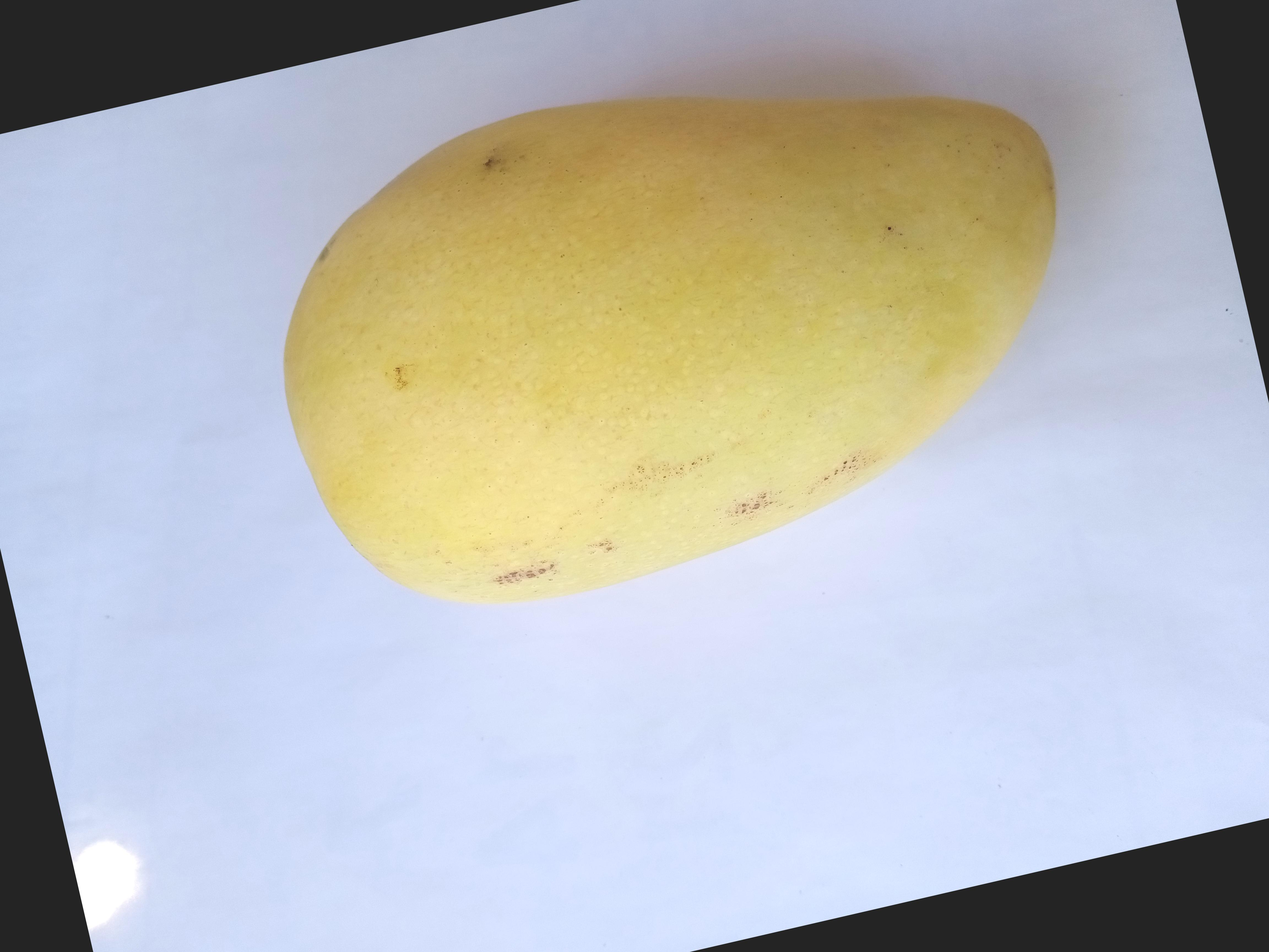Mango Ripe: (61, 157, 1068, 900)
